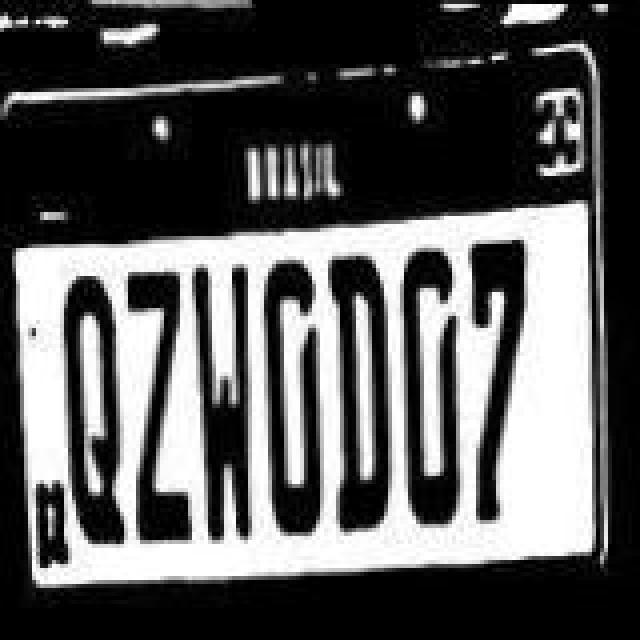7: (468, 230, 532, 526)
D: (330, 248, 398, 540), (398, 240, 466, 532), (260, 254, 324, 534)
Q: (60, 272, 132, 544)
W: (190, 266, 258, 554)
Z: (124, 262, 196, 546)
